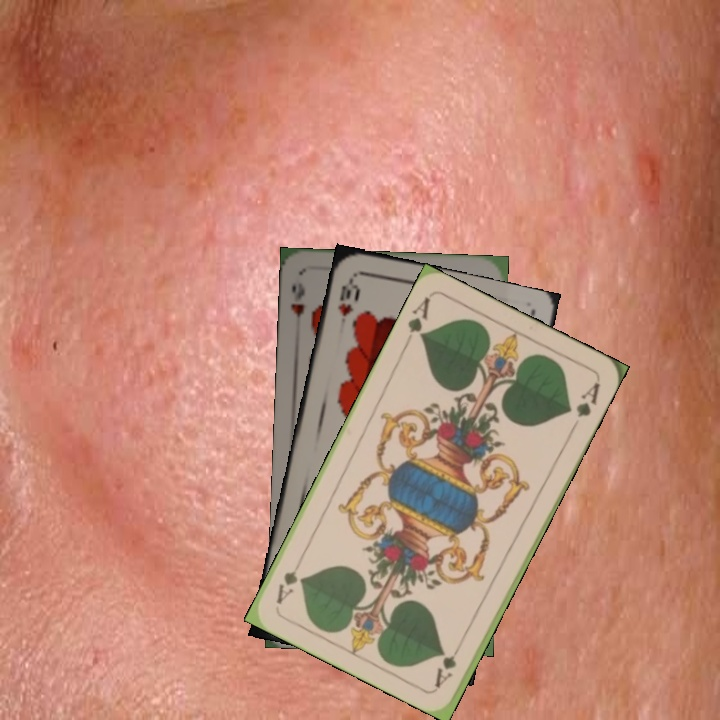GA: (430, 635, 466, 690), (401, 293, 433, 349)
H10: (334, 273, 362, 319)
H9: (287, 279, 308, 332)
